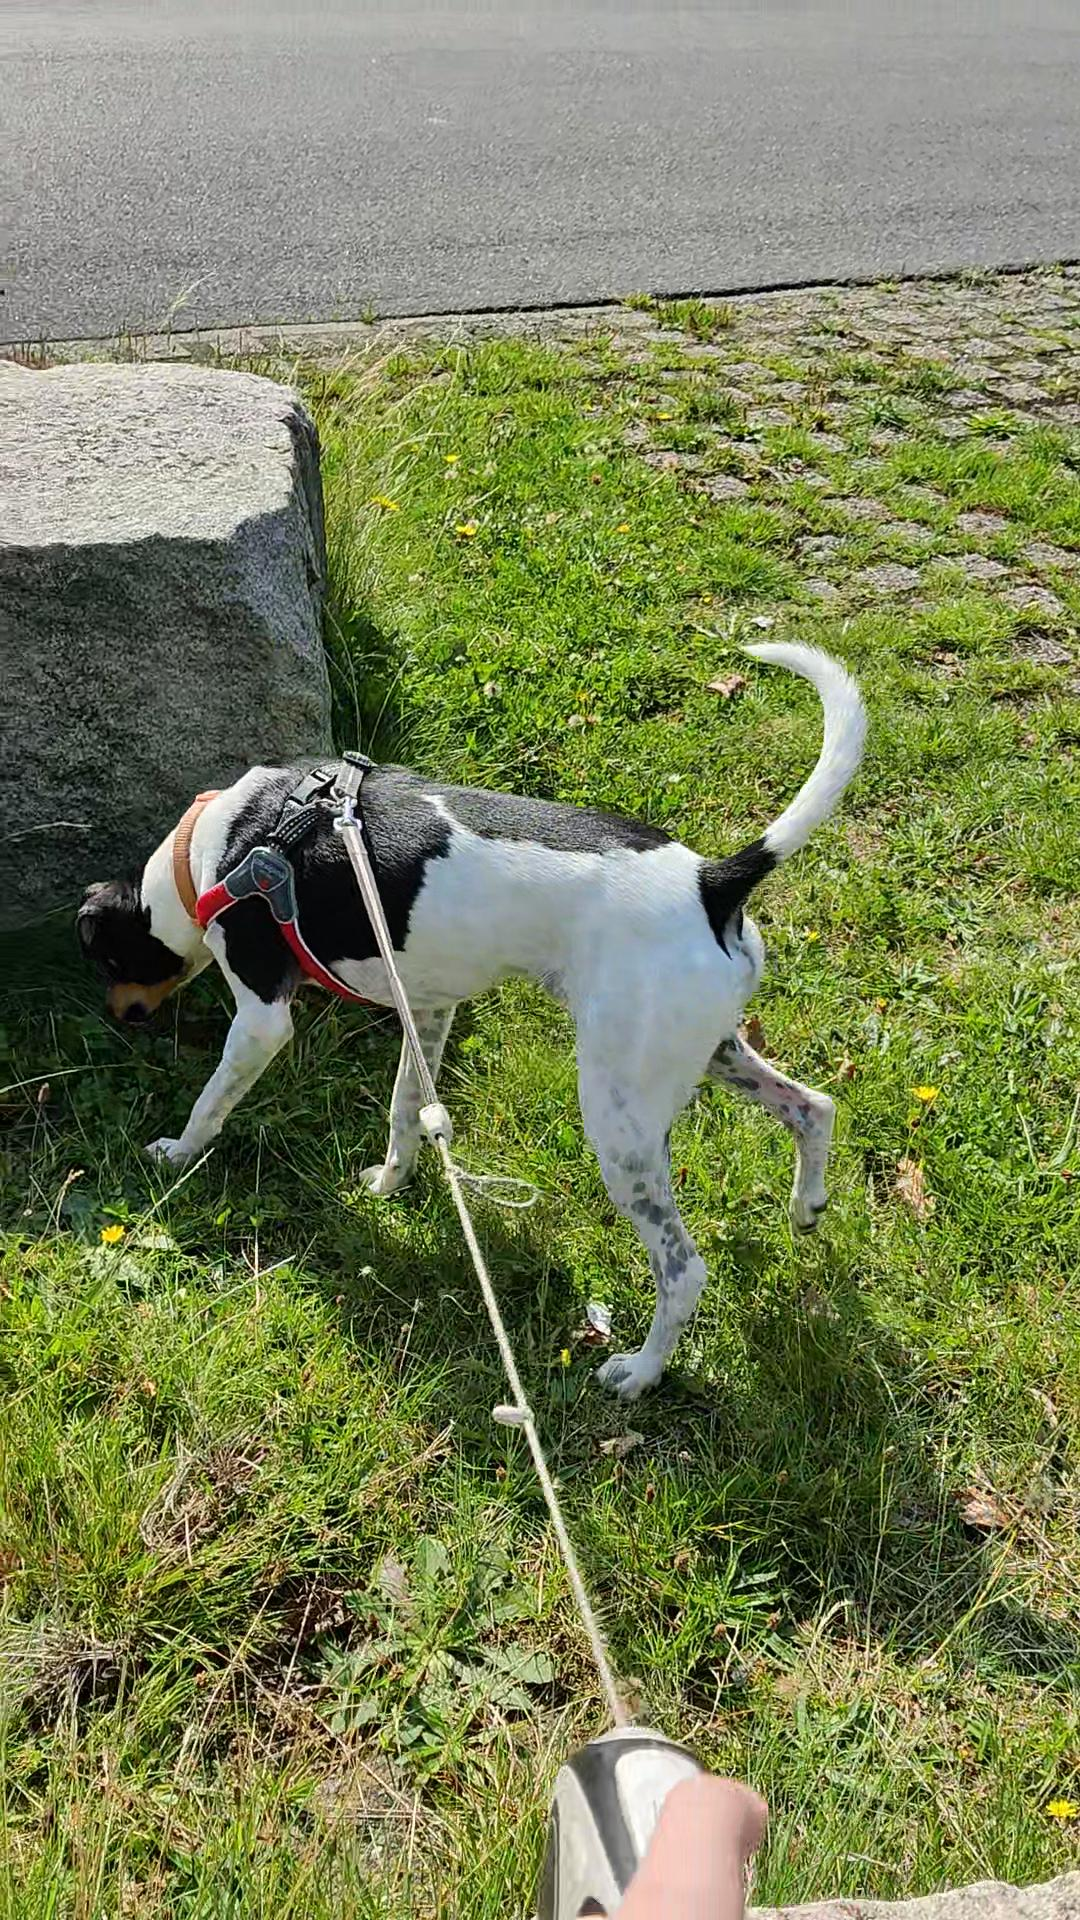Dog: (69, 604, 951, 1428)
